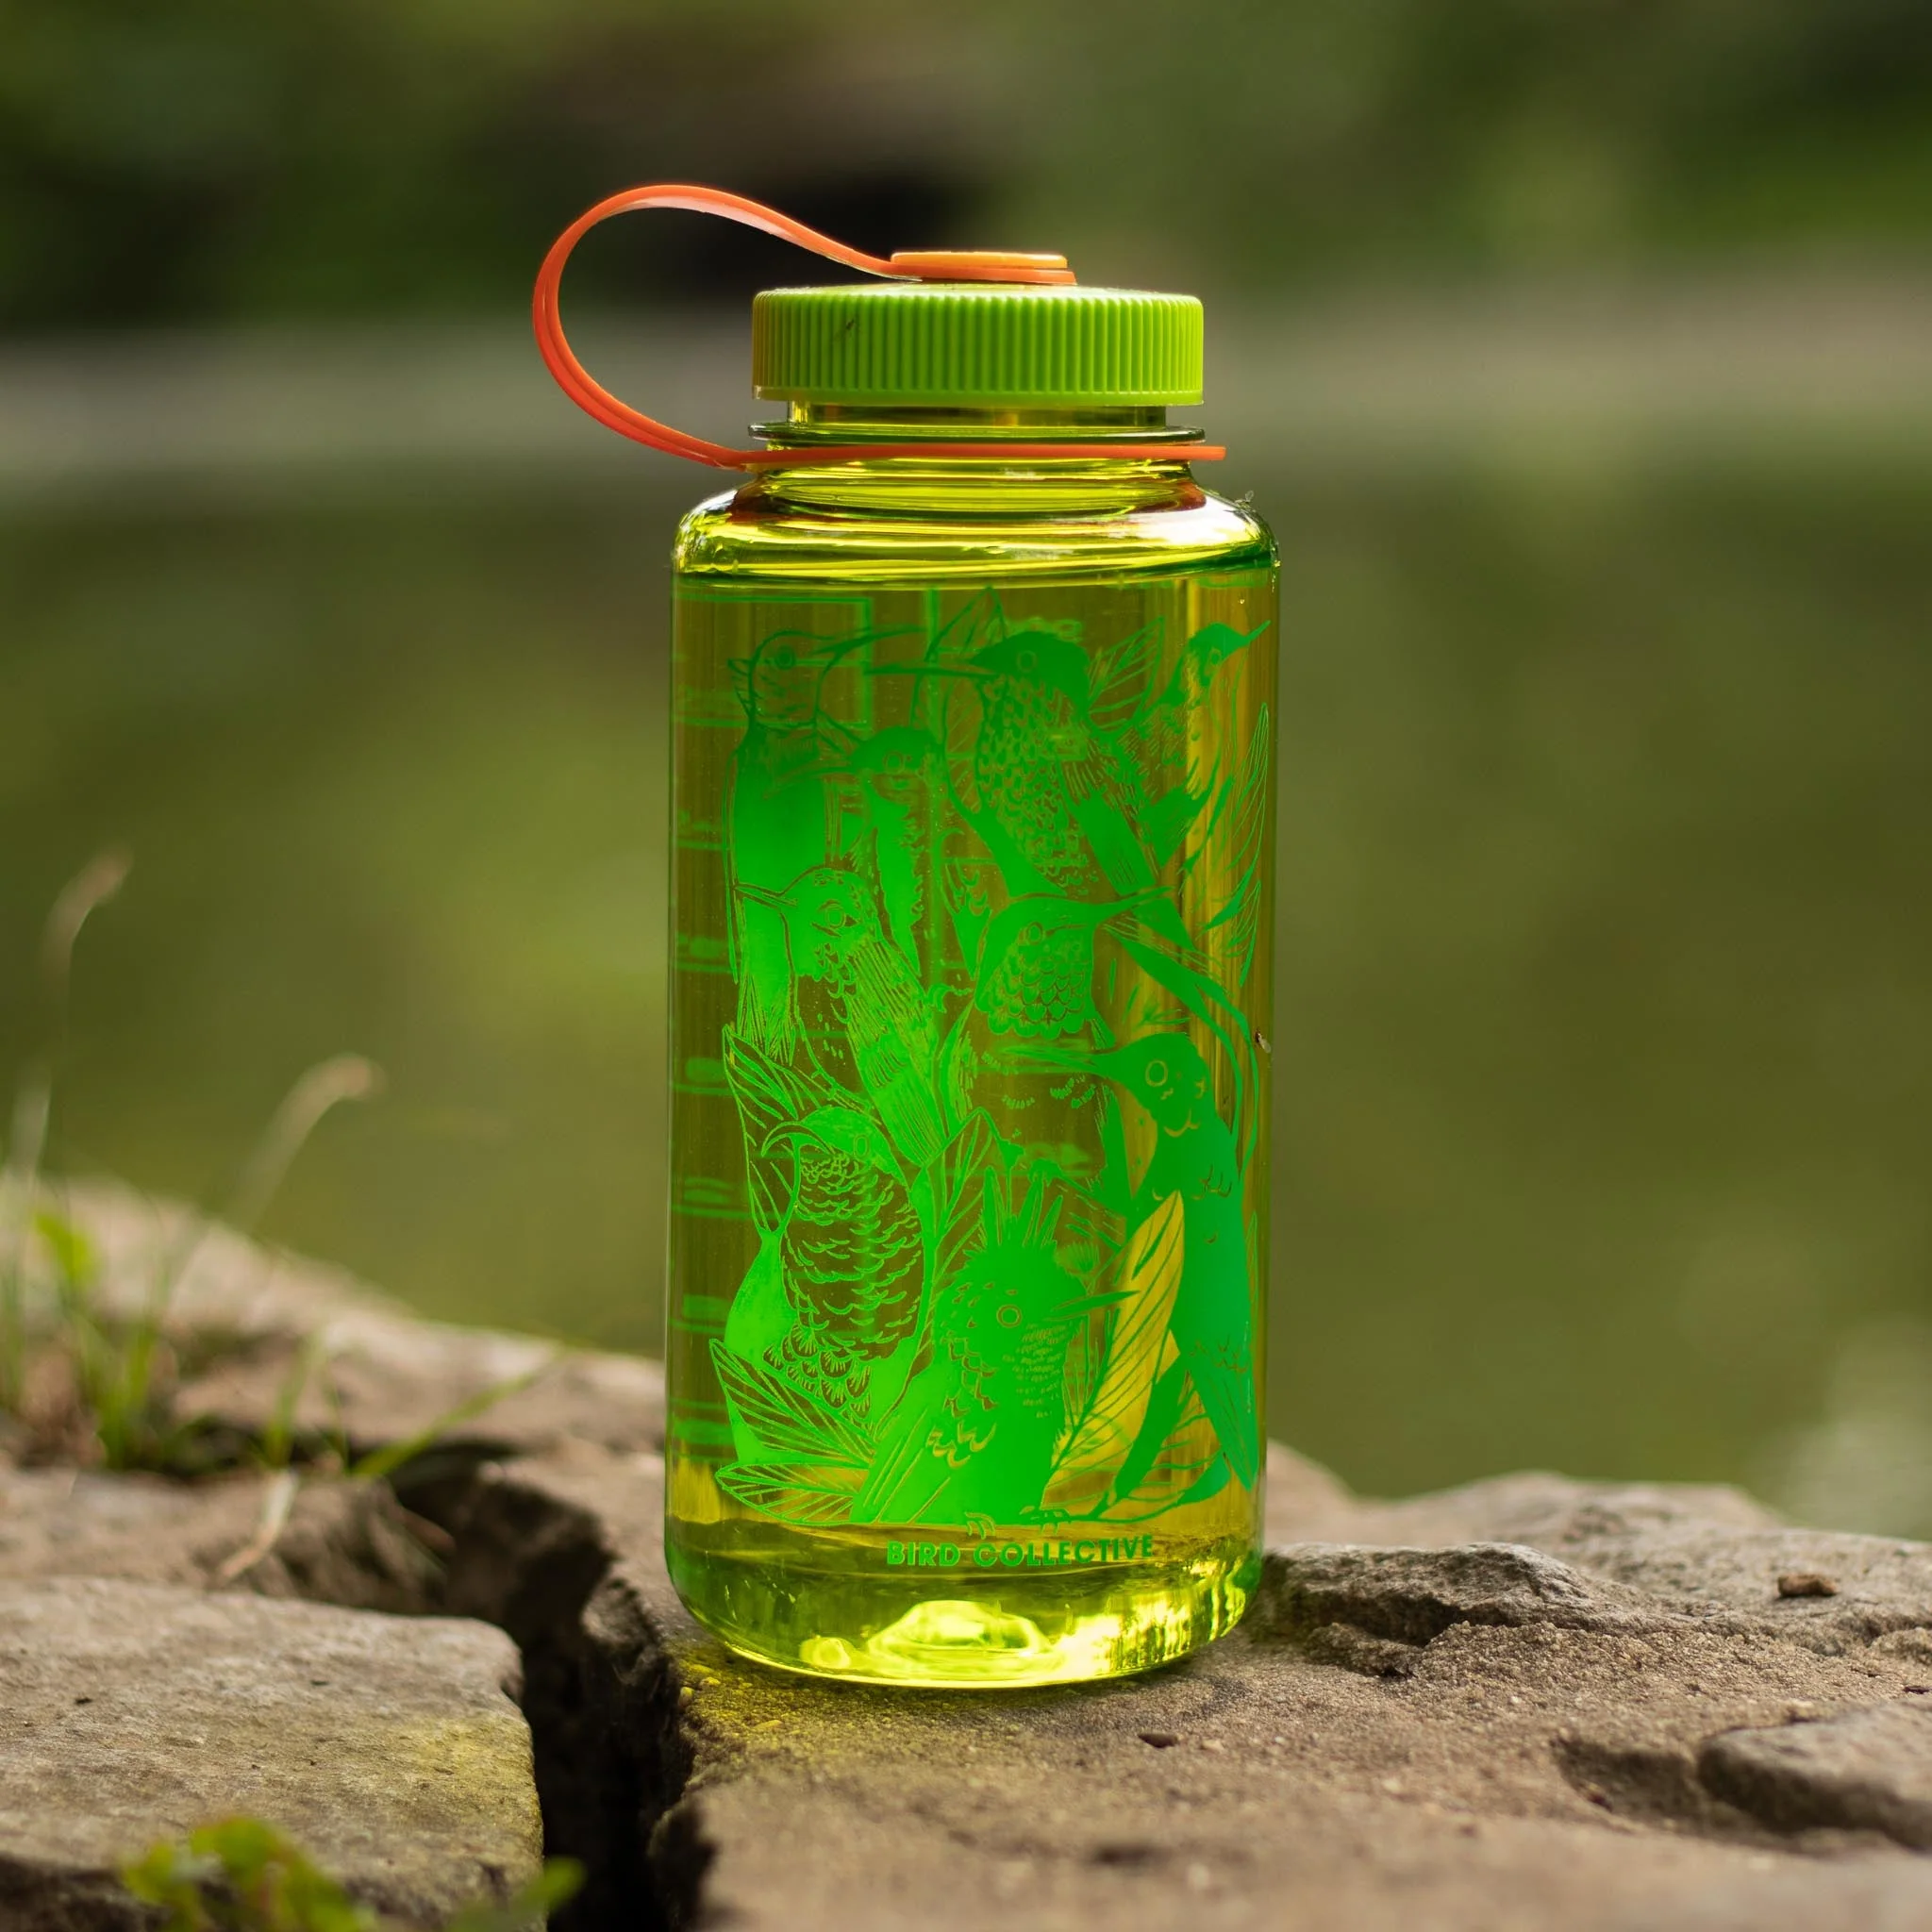bottle: (260, 88, 646, 853)
